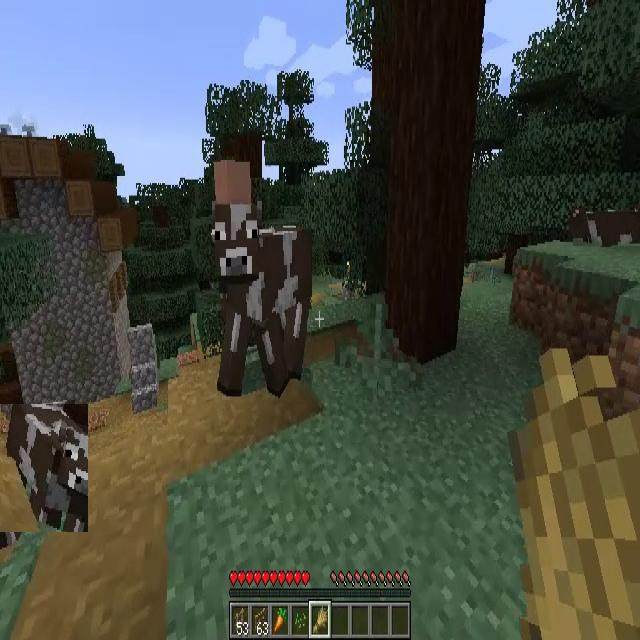cow: (213, 204, 312, 392), (0, 404, 88, 532), (573, 208, 640, 246)
